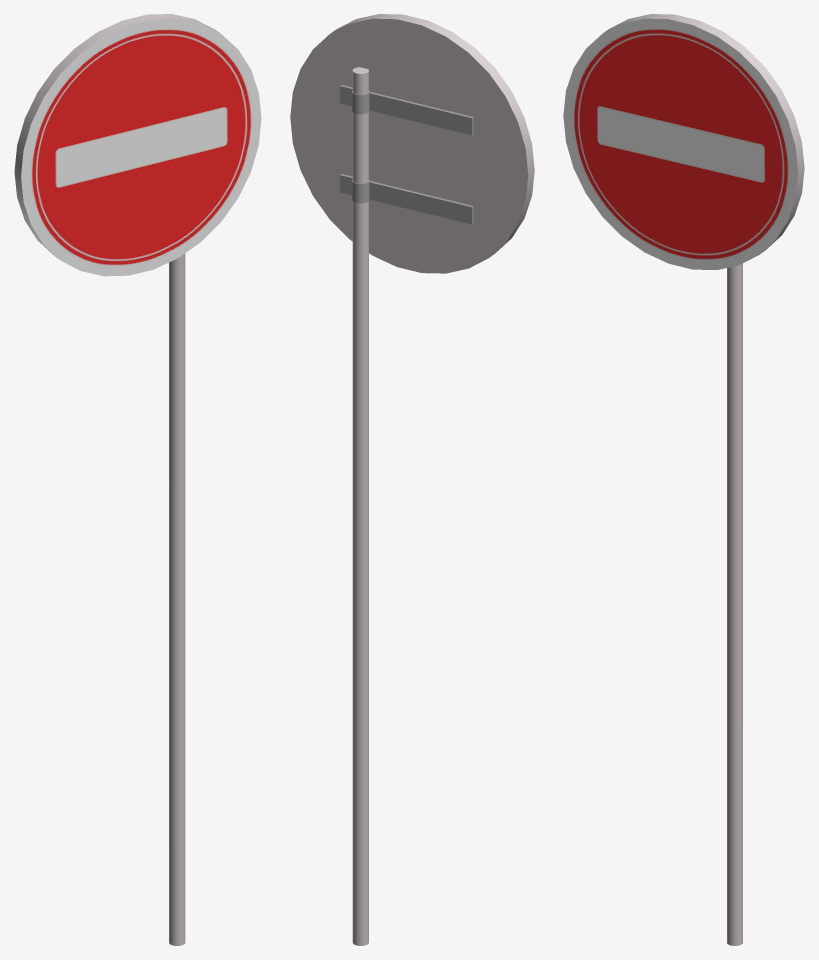
Rendered from Hyoushiki.fbx.
3 views of the same model, side by side, from view 1: azimuth 30°, elevation 25°; view 2: azimuth 150°, elevation 25°; view 3: azimuth 330°, elevation 25° (orthographic). The views are drawn at different scales.
Parts seen in each view (by area): view 1: pCylinder4, pCylinder3; view 2: pCylinder4, pCylinder3, pCube4, pCube5; view 3: pCylinder4, pCylinder3.
Boxes of the visible parts, <box> form: pCylinder4: <box>14,14,261,276</box>; pCylinder3: <box>169,253,185,945</box>; pCylinder4: <box>290,14,534,273</box>; pCylinder3: <box>352,67,368,945</box>; pCube4: <box>340,85,473,135</box>; pCube5: <box>340,174,473,224</box>; pCylinder4: <box>563,14,804,269</box>; pCylinder3: <box>727,263,742,945</box>.
Size of the model in its own units: 2 by 7.46 by 0.2057.
3 materials, 1 textured.
